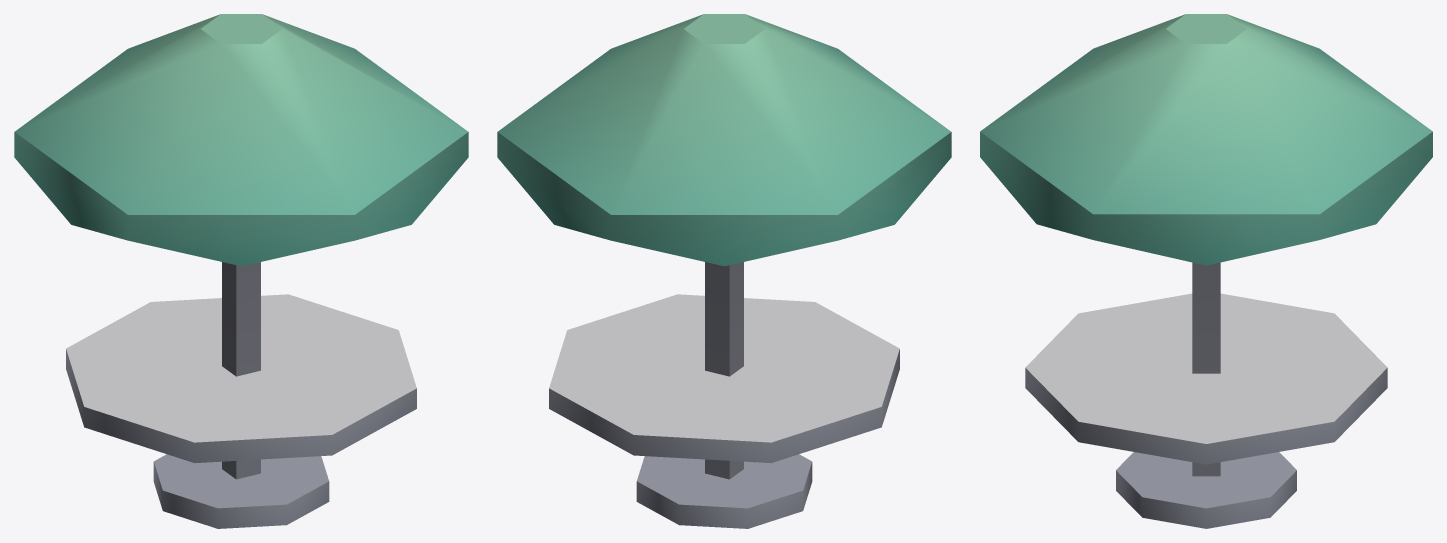
File: detail-parasol-b.glb
3 renders of one model, left to right at view 1: azimuth 30°, elevation 25°; view 2: azimuth 150°, elevation 25°; view 3: azimuth 270°, elevation 25°, orthographic.
Parts seen in each view (by area): view 1: detail-parasol-b; view 2: detail-parasol-b; view 3: detail-parasol-b.
Part boxes in pixels (<box>): detail-parasol-b: <box>14,14,468,528</box>; detail-parasol-b: <box>497,14,951,528</box>; detail-parasol-b: <box>980,14,1432,528</box>.
Bounding box in the file's own units: 0.3464 × 0.45 × 0.4.
